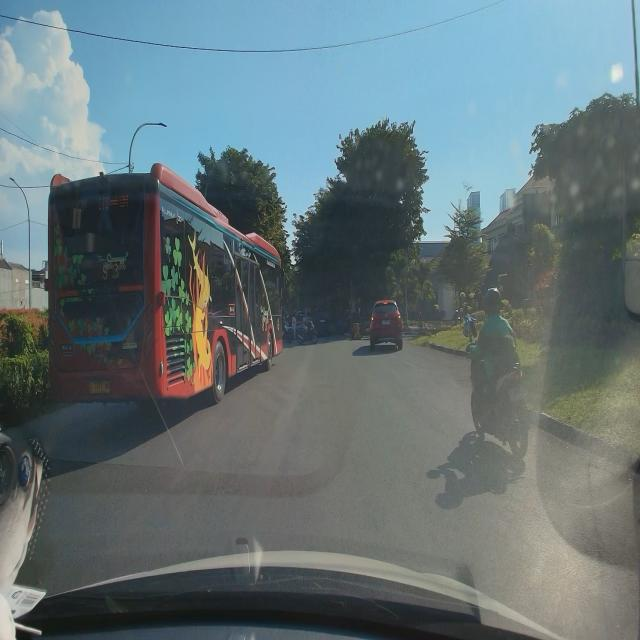bus: (48, 162, 284, 403)
car: (369, 300, 403, 352)
license-plate: (89, 380, 110, 394), (382, 320, 391, 325)
